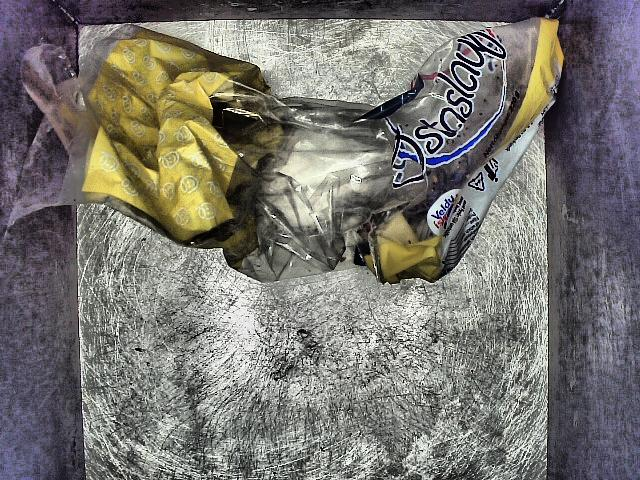Plastic: (20, 21, 579, 291)
